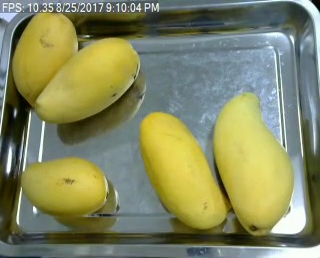Mango: (212, 93, 295, 240), (137, 109, 229, 228), (30, 34, 141, 120), (10, 5, 75, 119), (17, 156, 110, 216)
